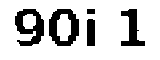0: (45, 6, 84, 53)
1: (117, 8, 148, 49)
9: (12, 9, 45, 50)
i: (83, 6, 102, 52)
